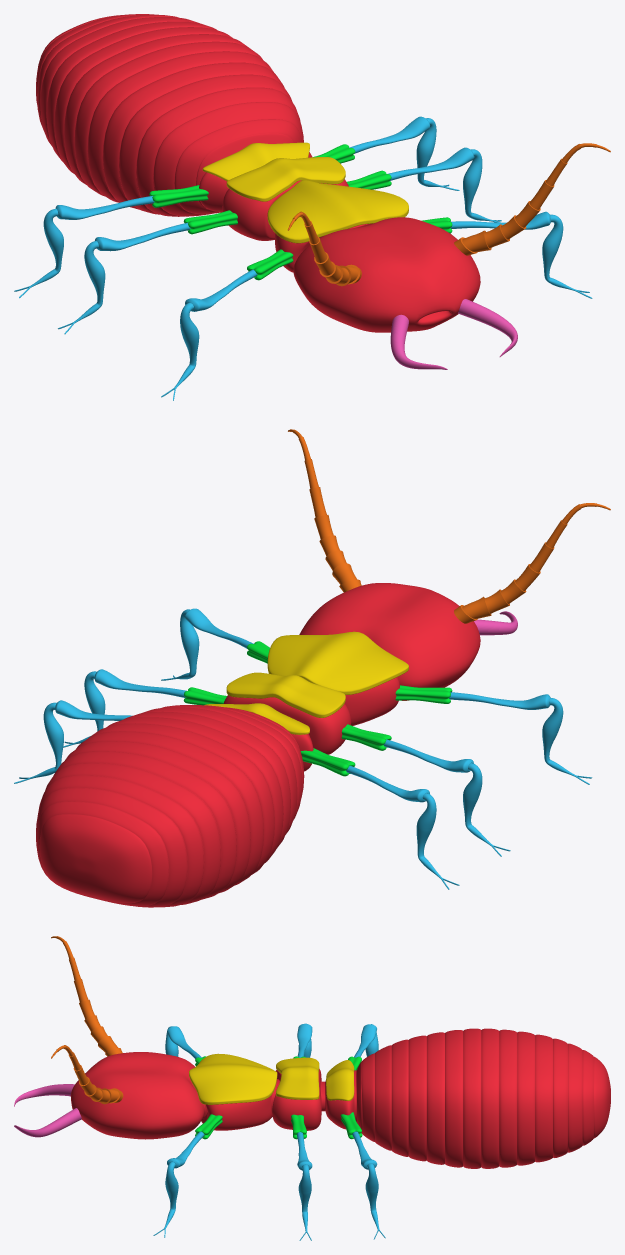
The model's file is ant.fbx.
The picture shows the model from 3 angles, top to bottom: view 1: azimuth 30°, elevation 25°; view 2: azimuth 150°, elevation 25°; view 3: azimuth 270°, elevation 25°; orthographic projection. The views are drawn at different scales.
Parts seen in each view (by area): view 1: Cube, Cube.007, Cube.008, Cylinder.039, Cube.009, Cylinder.046, Cylinder.045, Cylinder.044, Cylinder.047, Cylinder.043, Cylinder.038, Cylinder.040 (+6 smaller); view 2: Cube, Cube.007, Cube.008, Cylinder.040, Cylinder.039, Cylinder.043, Cylinder.045, Cylinder.046, Cylinder.047, Cylinder.044, Cylinder.038, Cube.009 (+4 smaller); view 3: Cube, Cube.007, Cube.008, Cylinder.040, Cube.009, Cylinder.039, Cylinder.038, Cylinder.047, Cylinder.044, Cylinder.042, Cylinder.043, Cylinder.041 (+2 smaller).
Boxes of the visible parts, box(x1,y1,x2,y2) form: Cube: box(36, 14, 480, 332); Cube.007: box(267, 180, 408, 243); Cube.008: box(226, 157, 345, 201); Cylinder.039: box(454, 143, 610, 255); Cube.009: box(202, 142, 309, 180); Cylinder.046: box(14, 196, 154, 298); Cylinder.045: box(58, 222, 190, 334); Cylinder.044: box(388, 147, 501, 222); Cylinder.047: box(349, 116, 459, 190); Cylinder.043: box(161, 269, 257, 400); Cylinder.038: box(450, 211, 592, 298); Cylinder.040: box(288, 211, 361, 286); Cube: box(36, 583, 480, 907); Cube.007: box(267, 631, 408, 694); Cube.008: box(226, 672, 345, 717); Cylinder.040: box(454, 503, 610, 623); Cylinder.039: box(288, 429, 361, 592); Cylinder.043: box(449, 692, 592, 784); Cylinder.045: box(383, 739, 510, 856); Cylinder.046: box(346, 765, 459, 889); Cylinder.047: box(14, 700, 132, 783); Cylinder.044: box(63, 669, 186, 747); Cylinder.038: box(161, 608, 253, 680); Cube.009: box(204, 703, 309, 734); Cube: box(70, 1028, 610, 1168); Cube.007: box(189, 1053, 277, 1104); Cube.008: box(276, 1057, 319, 1099); Cylinder.040: box(51, 936, 122, 1056); Cube.009: box(326, 1060, 354, 1100); Cylinder.039: box(51, 1045, 123, 1104); Cylinder.038: box(153, 1131, 204, 1237); Cylinder.047: box(352, 1131, 385, 1239); Cylinder.044: box(297, 1132, 312, 1240); Cylinder.042: box(14, 1108, 81, 1137); Cylinder.043: box(165, 1026, 201, 1058); Cylinder.041: box(14, 1084, 74, 1106).
Size of the model in its own units: 1011 by 468 by 1529.
